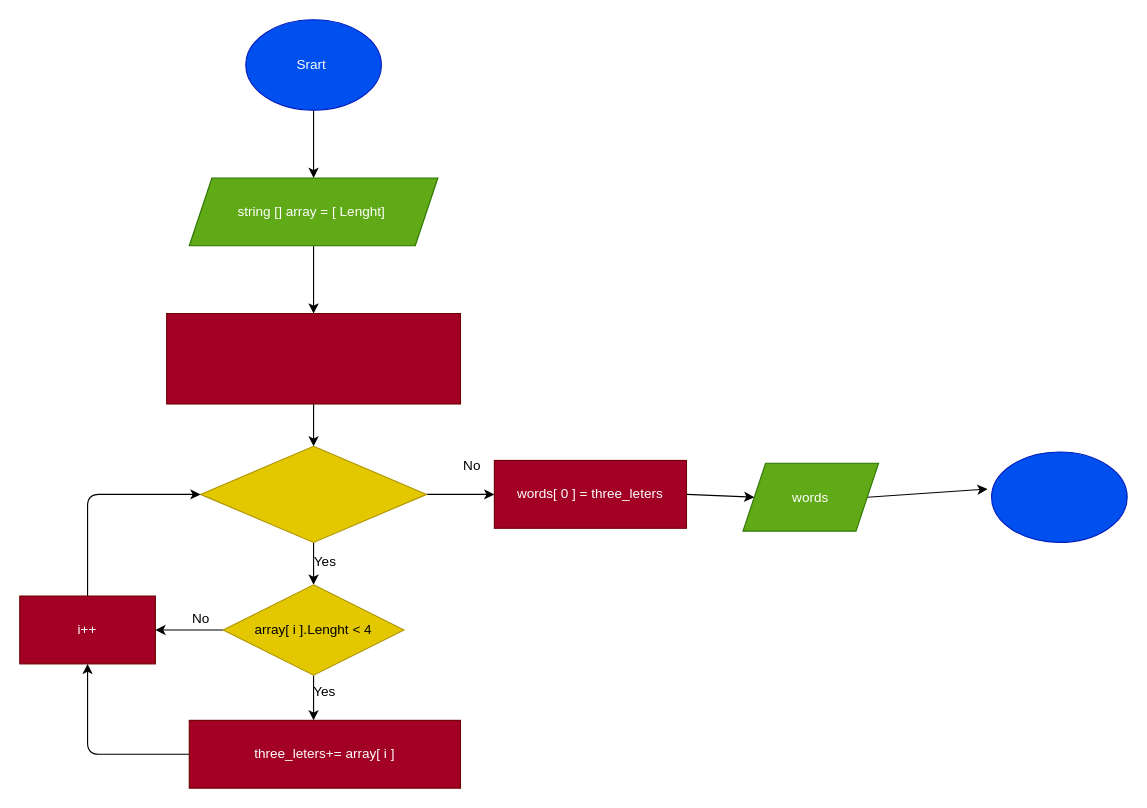
Some shapes in this 1147 by 808 pixel diagram are drawn without their labels. The shapes that lost their labels are listed below. From the top down, each one's box as (x1, y1, x2, y2) in pixels, then its label:
(166, 312, 460, 404): string [] words = [ 1 ] string three_leters = string.Empty int i = 0
(199, 445, 427, 542): i < array.Lenght
(990, 451, 1127, 542): end
